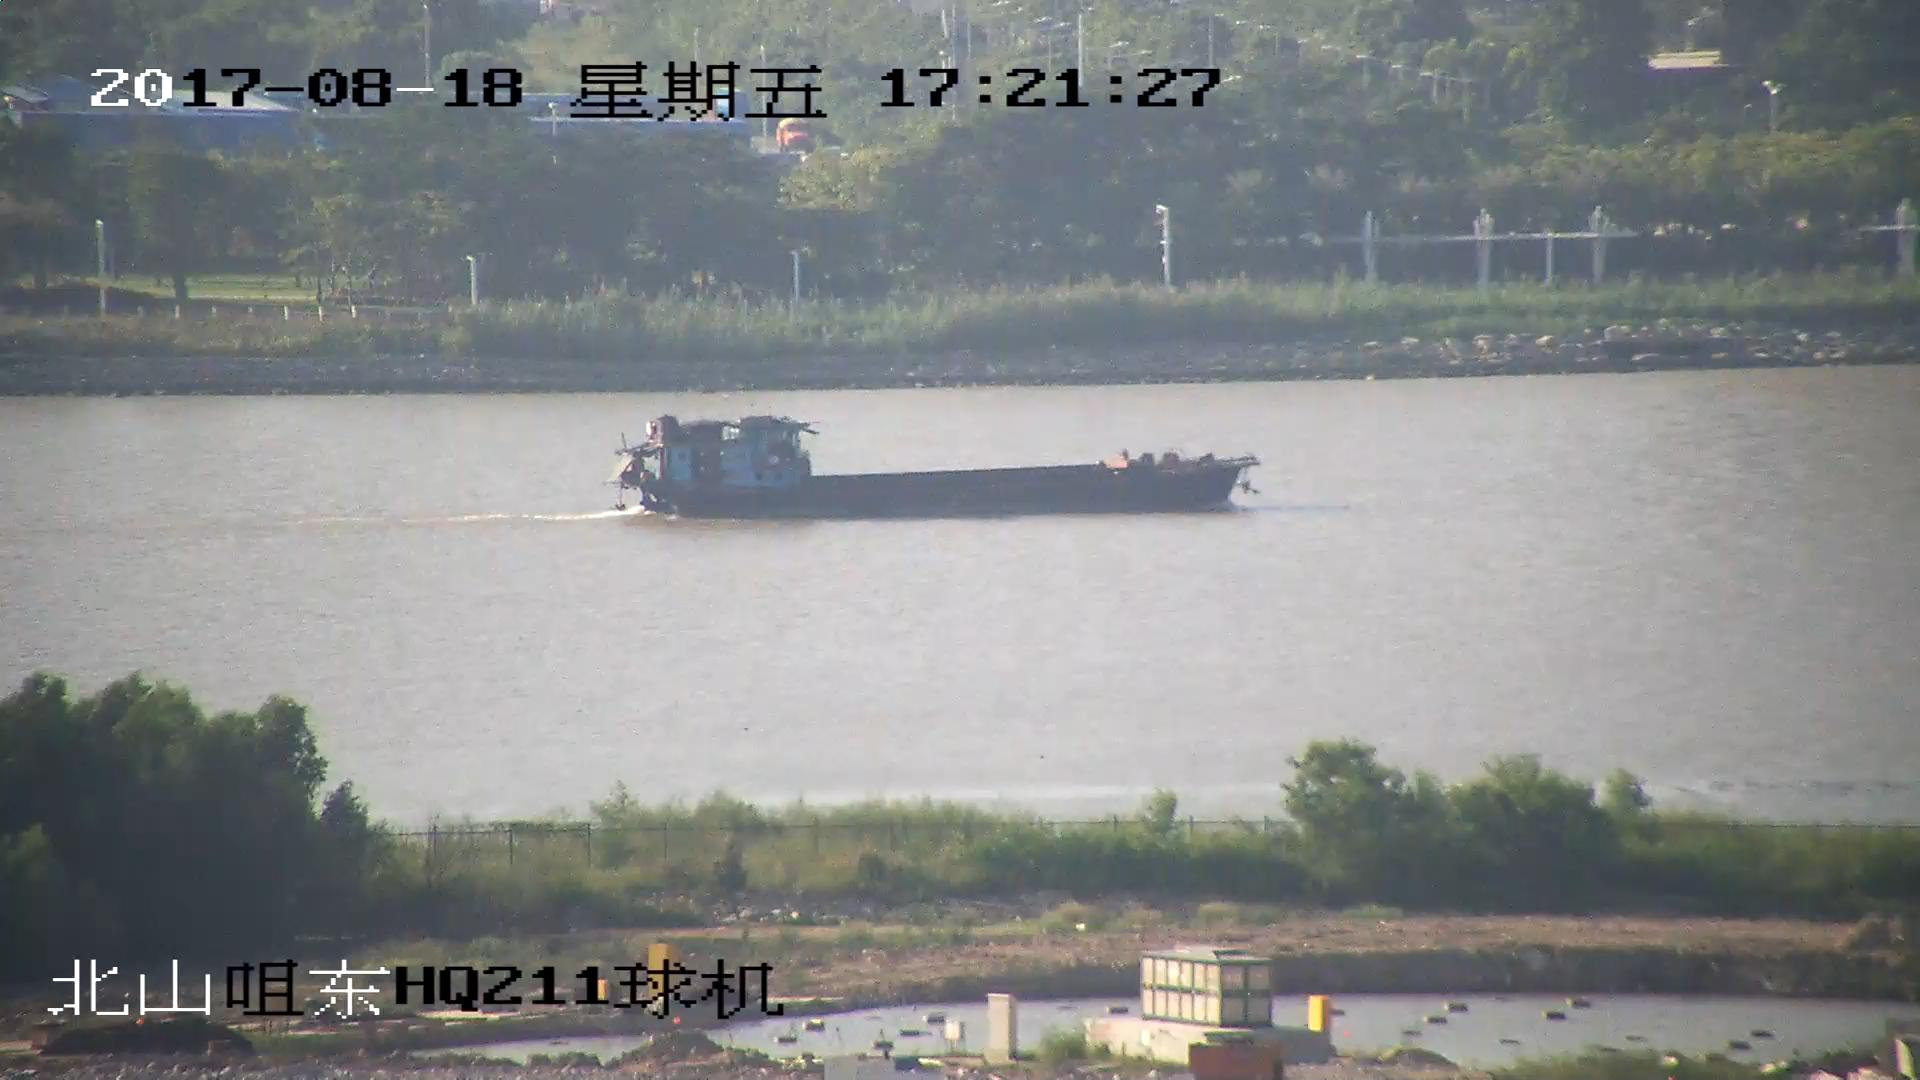bulk cargo carrier: (614, 416, 1263, 525)
